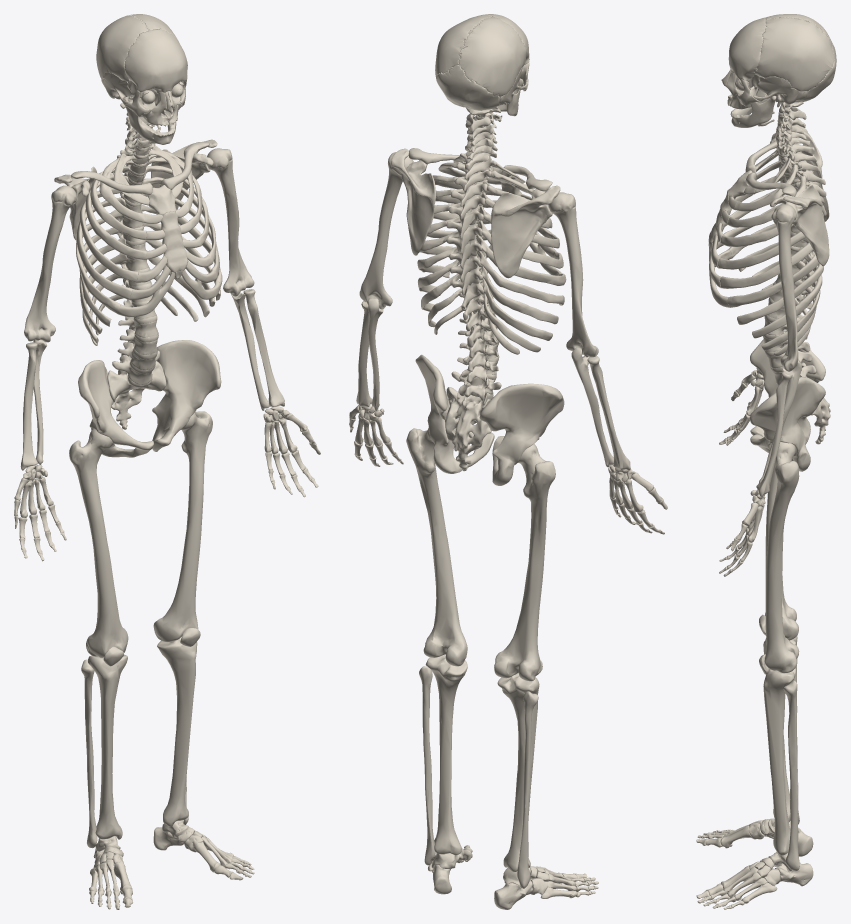
The model's file is skeleton.glb.
3 renders of one model, left to right at view 1: azimuth 30°, elevation 25°; view 2: azimuth 150°, elevation 25°; view 3: azimuth 270°, elevation 25°, orthographic. The views are drawn at different scales.
Parts seen in each view (by area): view 1: right_femur, left_femur, left_hip_bone, left_tibia, frontal_bone, right_tibia, right_hip_bone, right_humerus, left_humerus, right_parietal_bone, sacrum, right_fibula (+17 smaller); view 2: right_femur, left_femur, right_hip_bone, right_parietal_bone, right_scapula, left_tibia, right_tibia, left_hip_bone, right_humerus, left_scapula, sacrum, left_humerus (+14 smaller); view 3: left_femur, left_parietal_bone, left_tibia, left_hip_bone, left_humerus, left_scapula, left_fibula, frontal_bone, right_hip_bone, right_femur, left_radius, left_temporal_bone (+24 smaller).
Boxes of the visible parts, box(x1,y1,x2,y2) form: right_femur: box(69, 428, 128, 657); left_femur: box(153, 411, 212, 642); left_hip_bone: box(152, 340, 221, 451); left_tibia: box(157, 636, 197, 826); frontal_bone: box(125, 28, 187, 93); right_tibia: box(88, 654, 127, 839); right_hip_bone: box(78, 360, 153, 457); right_humerus: box(24, 185, 76, 342); left_humerus: box(207, 148, 254, 296); right_parietal_bone: box(96, 15, 149, 81); sacrum: box(107, 361, 166, 429); right_fibula: box(81, 659, 97, 848); right_femur: box(494, 444, 555, 681); left_femur: box(406, 428, 467, 666); right_hip_bone: box(479, 383, 564, 485); right_parietal_bone: box(458, 16, 526, 96); right_scapula: box(491, 185, 560, 278); left_tibia: box(425, 654, 467, 854); right_tibia: box(497, 673, 539, 871); left_hip_bone: box(415, 354, 494, 473); right_humerus: box(549, 192, 598, 357); left_scapula: box(391, 148, 435, 255); sacrum: box(445, 387, 491, 471); left_humerus: box(359, 152, 413, 309); left_femur: box(764, 442, 799, 673); left_parietal_bone: box(755, 17, 834, 91); left_tibia: box(763, 668, 795, 855); left_hip_bone: box(750, 377, 825, 471); left_humerus: box(771, 204, 798, 371); left_scapula: box(770, 184, 829, 266); left_fibula: box(783, 680, 799, 870); frontal_bone: box(728, 17, 767, 80); right_hip_bone: box(750, 330, 825, 444); right_femur: box(765, 460, 798, 640); left_radius: box(756, 371, 792, 497); left_temporal_bone: box(753, 76, 807, 107).
Size of the model in its own units: 697 by 1837 by 273.
